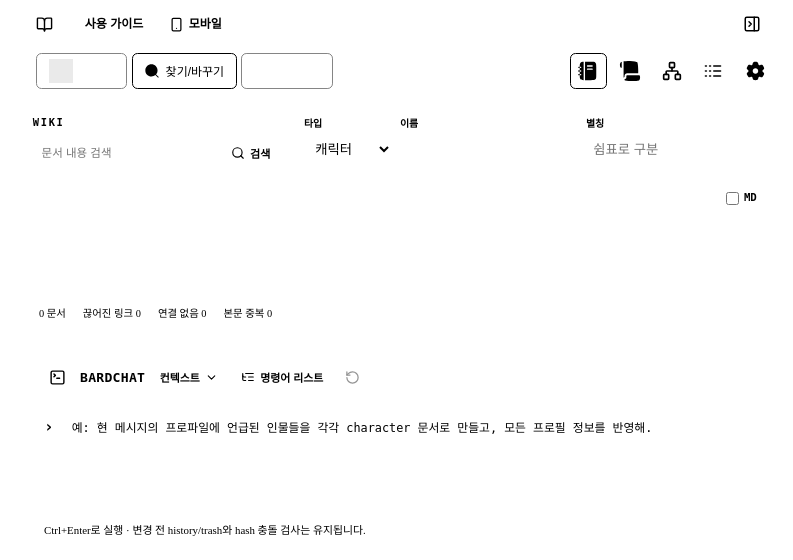
Test: RisuBardMemoryWiki › keeps documents and the direct command terminal together while logs use a separate view
Expected: the element showing "WIKI 검색 0 문서 끊어진 링크 0 연결 없음 0 본문 중복 0 타입 이름 별칭 MD" is shown, x1=20 y1=105 x2=776 y2=333
Expected: the element that starts with "BARDCHAT" is shown, x1=32 y1=355 x2=764 y2=544
Click the button named "로그".
click(713, 71)  # box x1=694 y1=53 x2=732 y2=89
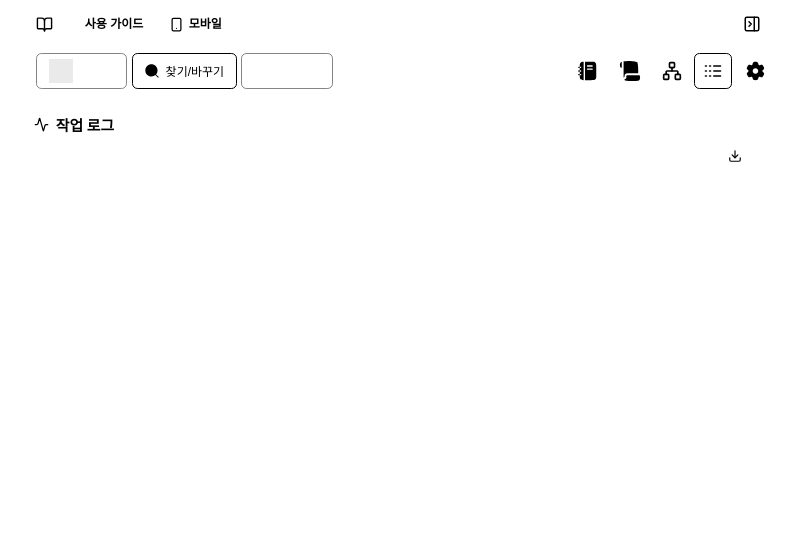
Now the element showing "작업 로그" is shown, box x1=34 y1=118 x2=749 y2=167
